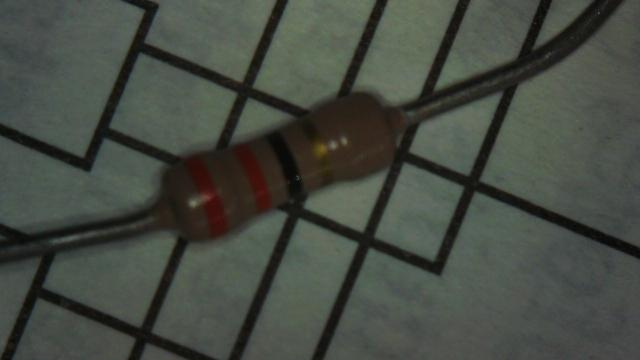black: (265, 130, 304, 199)
gold: (302, 118, 333, 183)
orange: (186, 157, 228, 236), (234, 145, 272, 211)
resistor: (130, 65, 415, 258)
